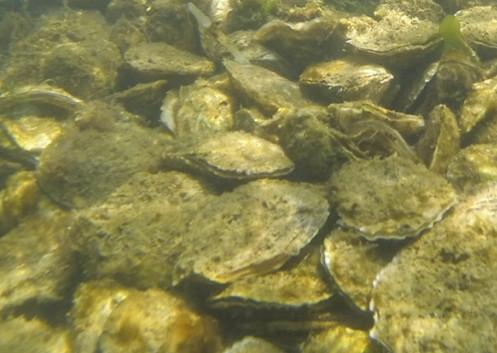3: (392, 59, 440, 119), (346, 122, 381, 146)
Oyster- Indeterminate: (368, 185, 497, 353), (333, 158, 459, 240), (206, 239, 339, 310), (320, 224, 412, 316), (167, 131, 296, 177), (345, 12, 442, 68), (331, 101, 427, 136), (144, 6, 202, 52), (326, 128, 371, 163)
Oyster-Closed: (67, 171, 220, 290), (173, 179, 330, 284), (38, 101, 176, 207), (0, 196, 88, 311), (230, 105, 345, 181), (102, 288, 223, 353), (224, 58, 318, 115), (41, 41, 123, 105), (74, 280, 143, 353), (300, 54, 392, 104), (172, 75, 241, 141), (255, 17, 340, 66), (435, 61, 491, 131), (103, 78, 173, 122), (417, 106, 461, 175), (0, 172, 47, 236), (445, 144, 497, 200), (125, 44, 214, 75), (0, 317, 71, 353), (460, 78, 497, 133), (302, 325, 374, 353), (454, 5, 497, 49), (377, 0, 445, 25), (230, 31, 281, 62), (111, 20, 146, 53), (222, 336, 287, 353)
